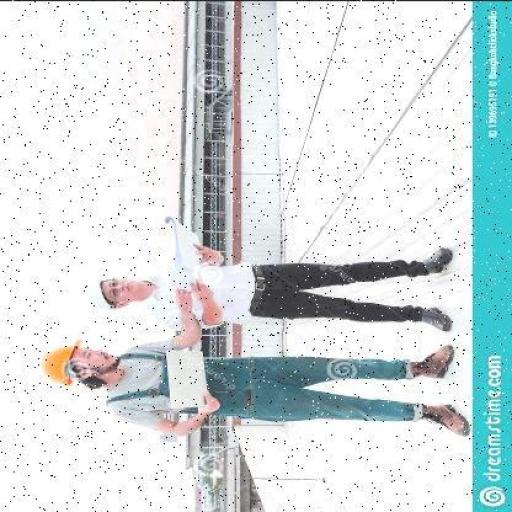person: (42, 315, 465, 446), (82, 218, 458, 338)
safety_shoe: (410, 342, 454, 380), (419, 402, 470, 434), (415, 308, 455, 330), (424, 244, 450, 275)
